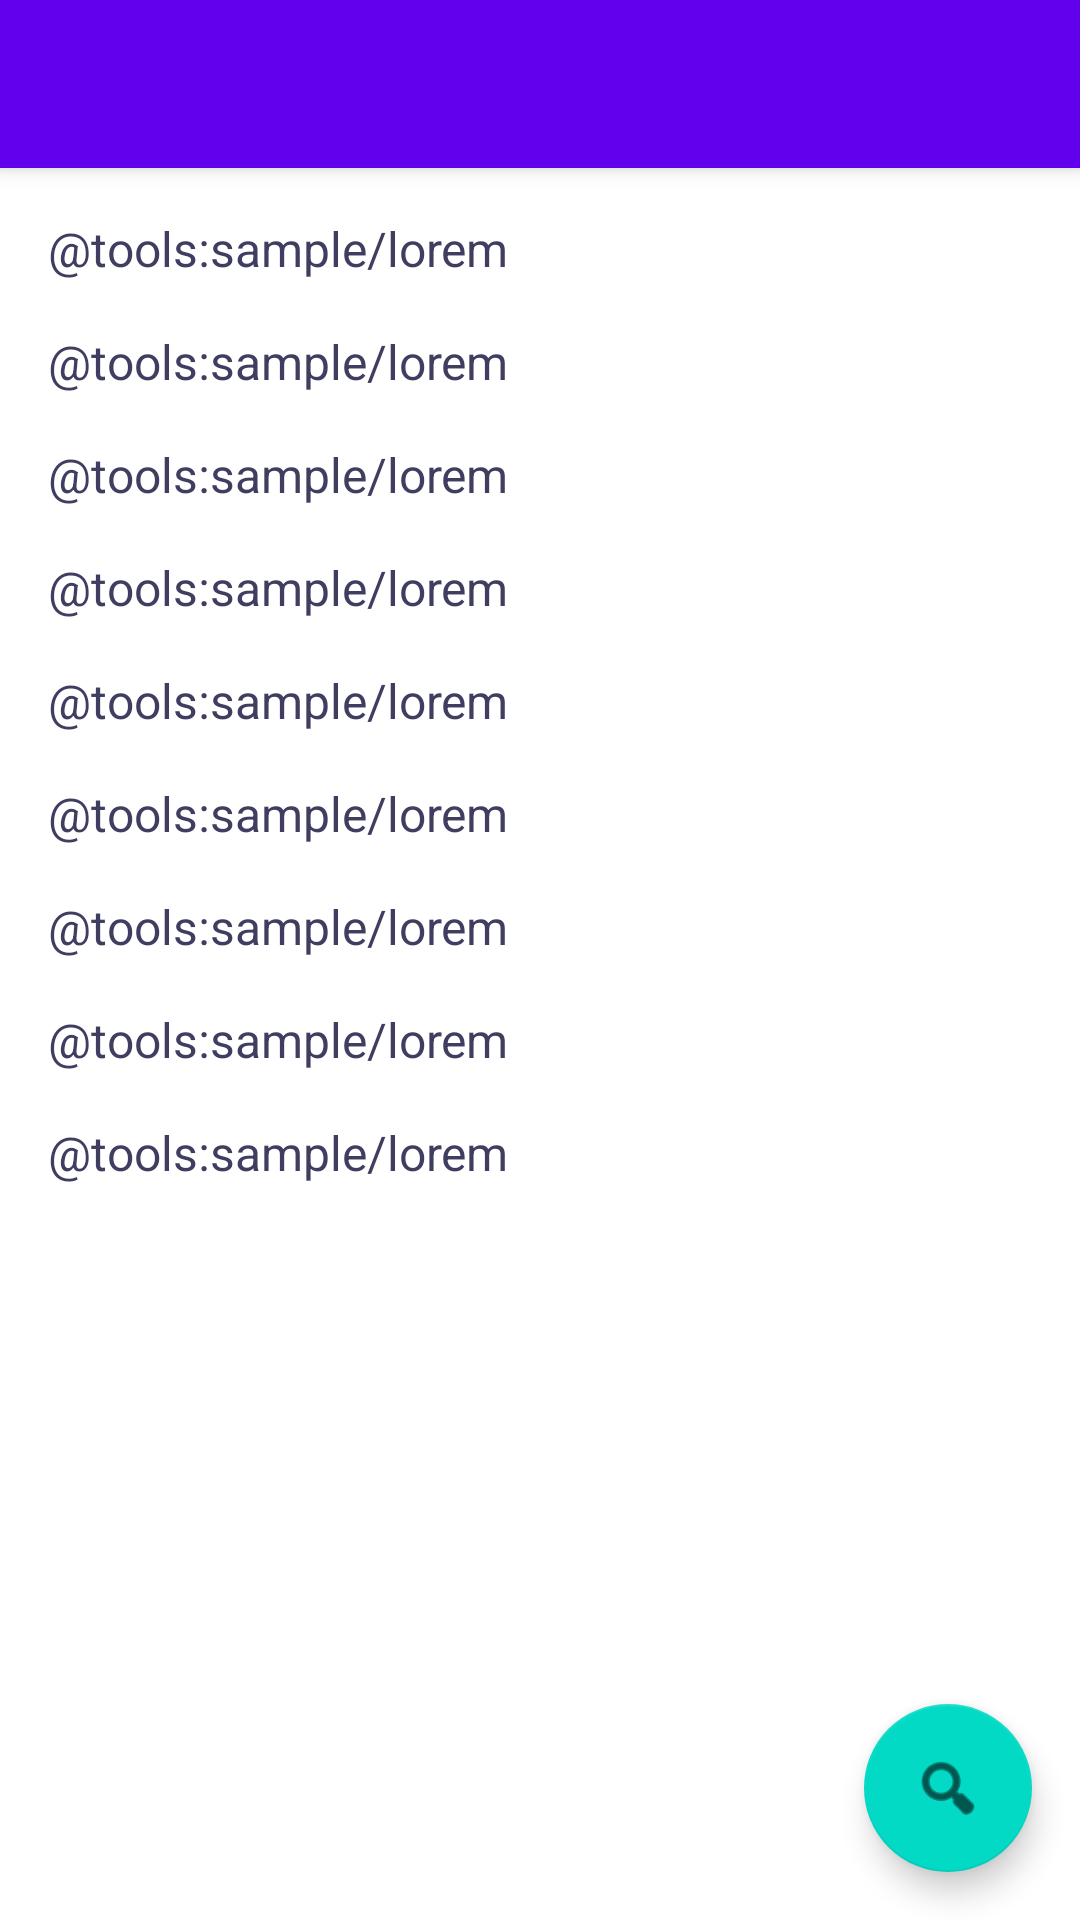

Icons on this 1080 × 1920 Android screen, each with its box as (x1, y1, x2, y2):
search: (864, 1704, 1032, 1872)
